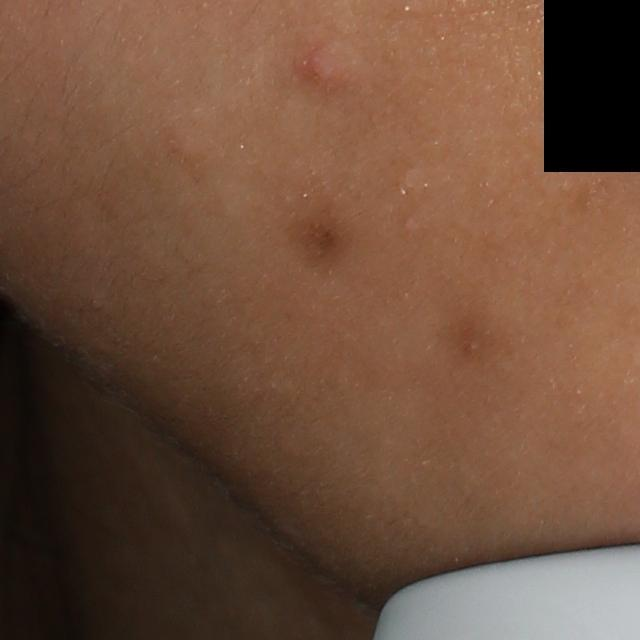papule: (289, 32, 372, 98)
